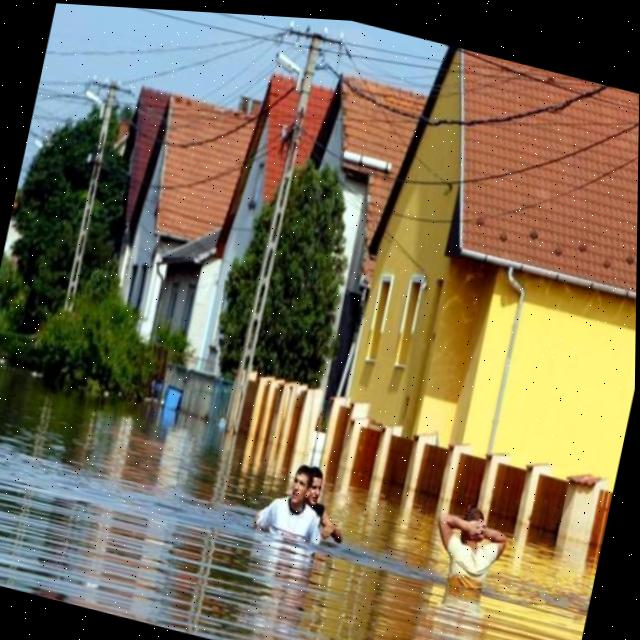civilian: (405, 488, 529, 632), (238, 436, 349, 573), (288, 450, 365, 558)
